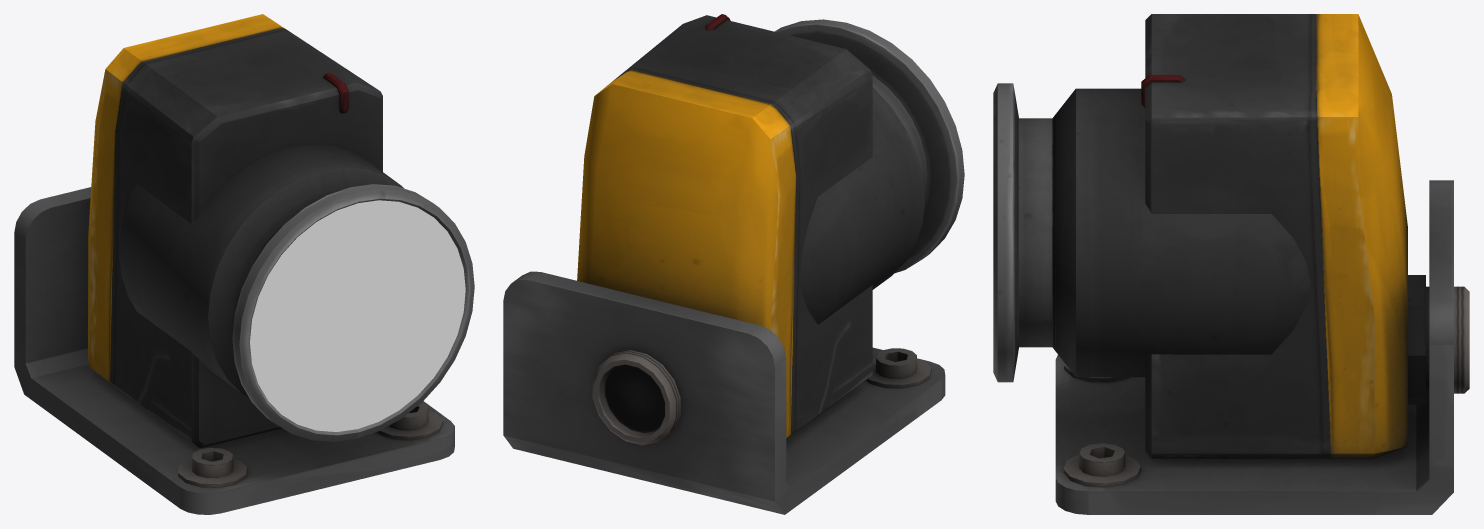
File: VisionSensor.glb
3 renders of one model, left to right at view 1: azimuth 30°, elevation 25°; view 2: azimuth 150°, elevation 25°; view 3: azimuth 270°, elevation 25°, orthographic. The views are drawn at different scales.
Parts seen in each view (by area): view 1: VisionSensor; view 2: VisionSensor; view 3: VisionSensor.
Boxes of the visible parts, <box> form: VisionSensor: <box>14,14,474,514</box>; VisionSensor: <box>503,14,964,514</box>; VisionSensor: <box>993,14,1469,514</box>.
Bounding box in the file's own units: 0.0851 × 0.1078 × 0.1177.
2 materials, 1 textured.
